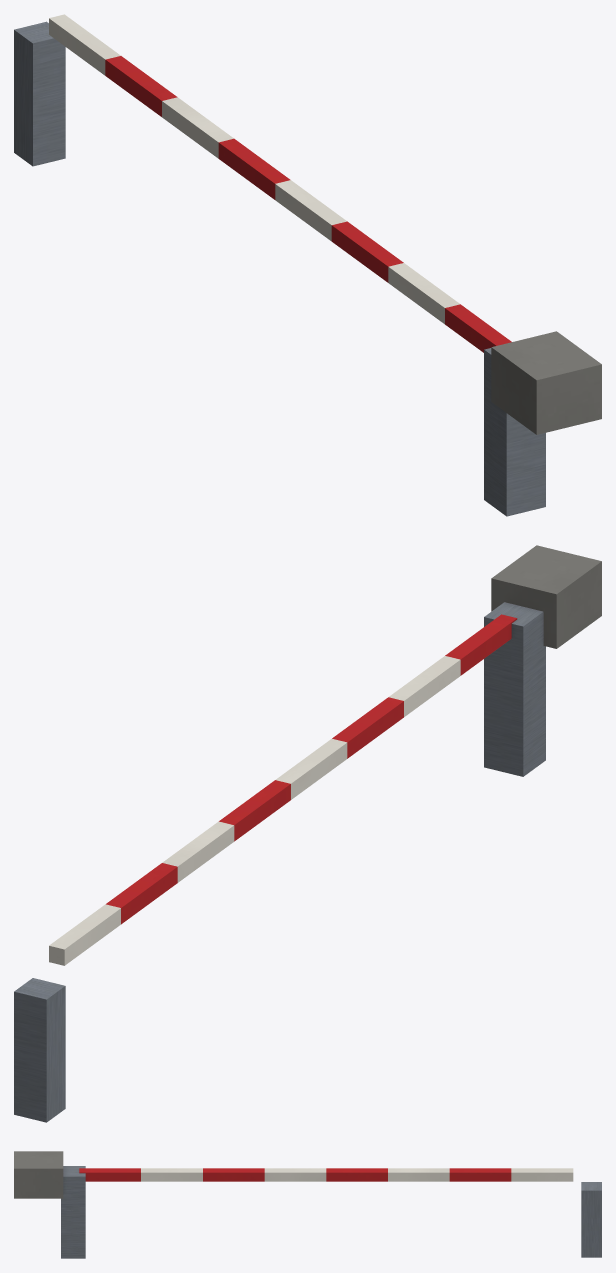
Rendered from bom_tex.glb.
3 views of the same model, one above another, from view 1: azimuth 30°, elevation 25°; view 2: azimuth 150°, elevation 25°; view 3: azimuth 270°, elevation 25° (orthographic). The views are drawn at different scales.
Parts seen in each view (by area): view 1: bom; view 2: bom; view 3: bom.
Boxes of the visible parts, box(x1,y1,x2,y2) form: bom: box(14, 14, 601, 516); bom: box(14, 545, 601, 1122); bom: box(14, 1151, 601, 1258).
Bounding box in the file's own units: 0.5 × 1.25 × 7.15.
Materials: 4 (4 with a texture image).
